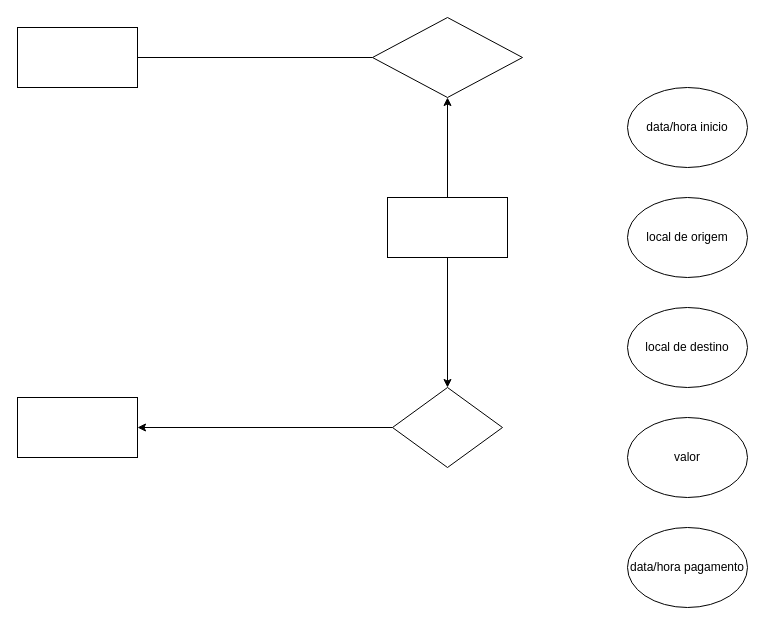
This 765x625 diagram has some shape labels left out. Here are the shapes that lost their labels. From the top down, the box of each, then its label:
(16, 26, 138, 88): Motorista
(386, 196, 508, 258): Percurso
(16, 396, 138, 458): Cliente
